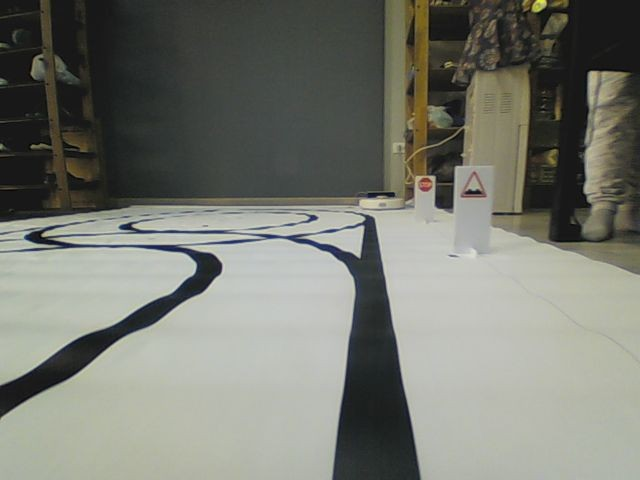Nerov: (459, 169, 488, 199)
Stop: (417, 177, 433, 192)
